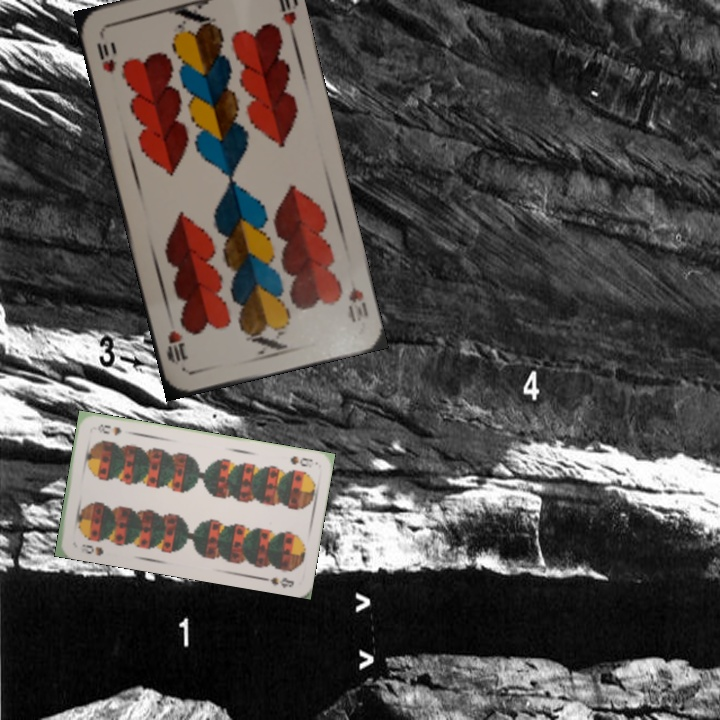H10: (344, 275, 371, 325), (92, 30, 119, 75)
S8: (77, 540, 106, 558), (286, 452, 315, 469)
